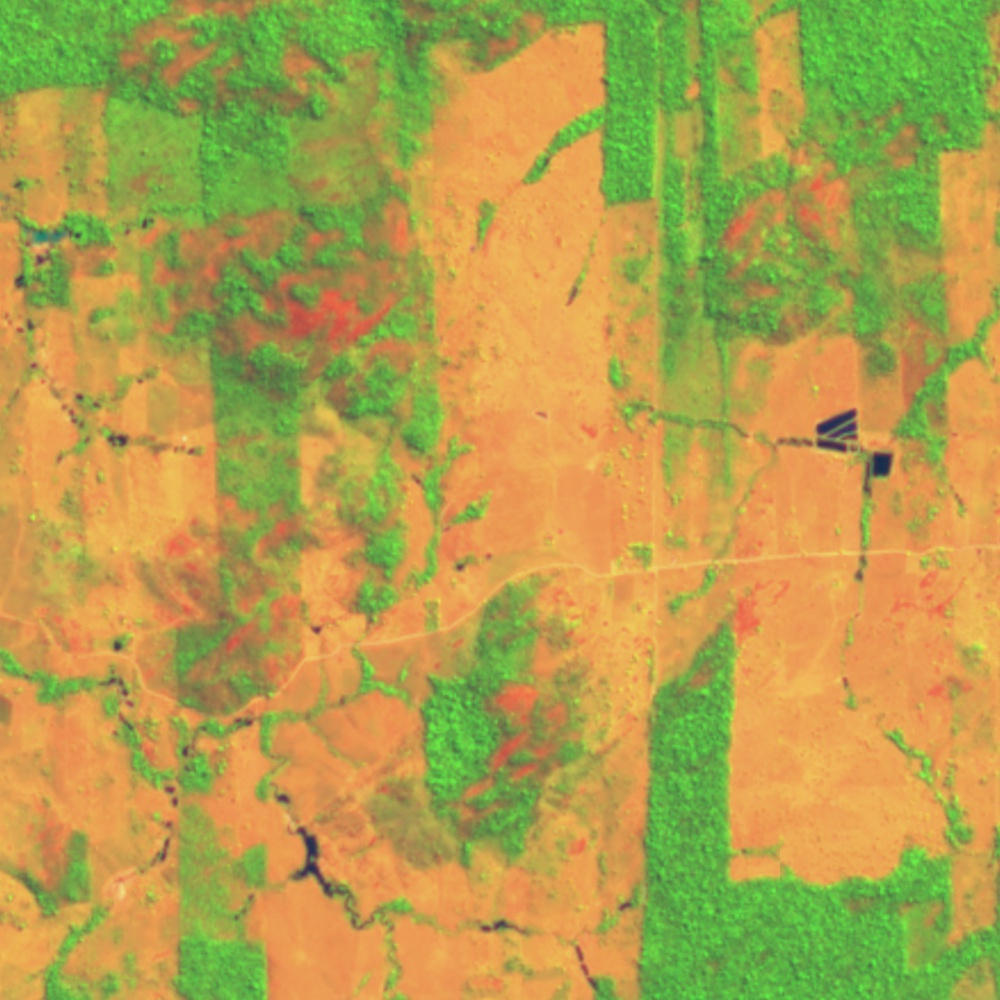illegal: (100, 637, 263, 903), (1, 315, 211, 468), (269, 776, 389, 929), (774, 405, 904, 524), (480, 900, 633, 1000), (7, 205, 169, 298)
